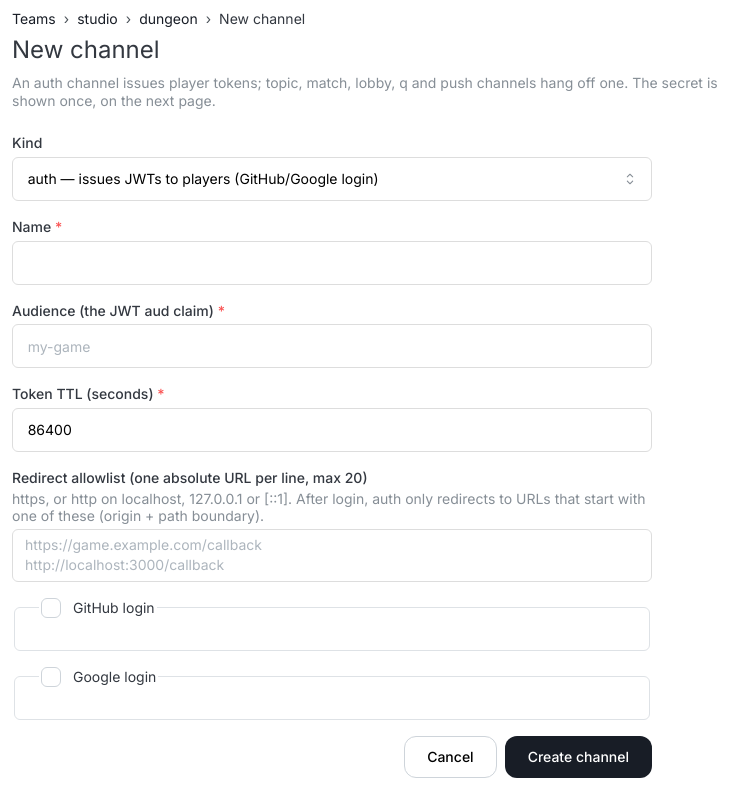
it: ChannelNewPage › refuses a topic channel while the project has no auth channel
Expected: the heading "New channel" is shown, [12, 34, 160, 66]
Select "topic — broadcast topics over WebSocket" in the dropdown labelled "Kind" at (332, 179), box [12, 157, 652, 201]
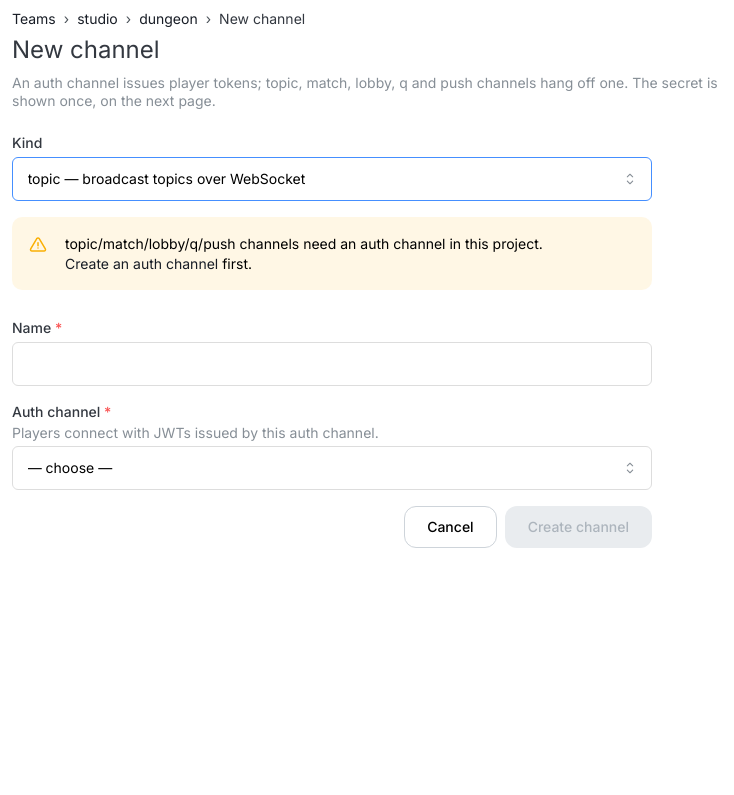
Expected: the text "need an auth channel in this project" is shown, [65, 235, 543, 252]
Expected: the button "Create channel" is disabled, [505, 506, 652, 548]
Click the button "Create an auth channel" at (142, 263), box [65, 254, 218, 273]
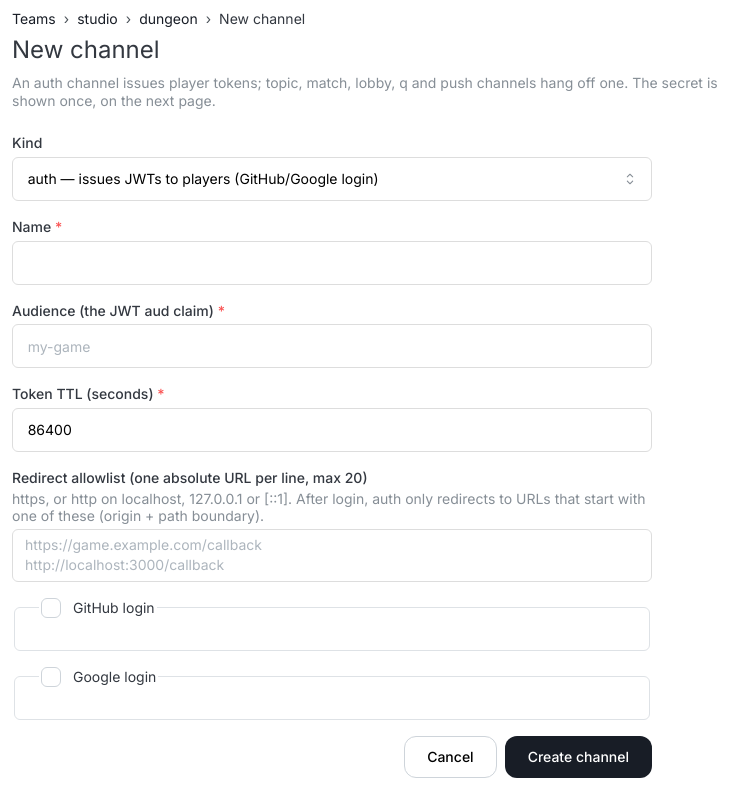
Expected: the text "https, or http on localhost, 127.0.0.1 or [::1]" is shown, [12, 490, 646, 524]
